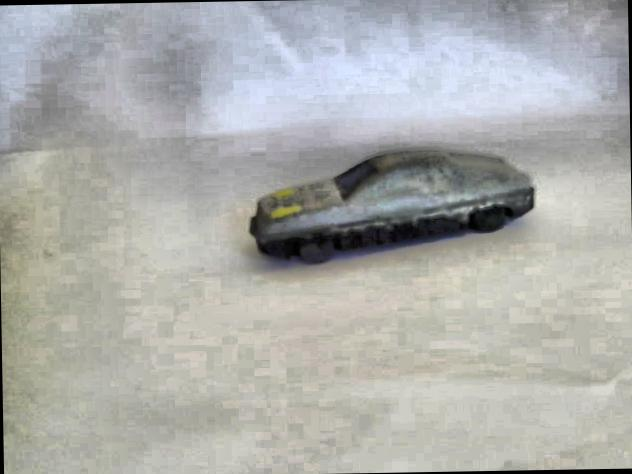normal_car: (241, 141, 540, 270)
